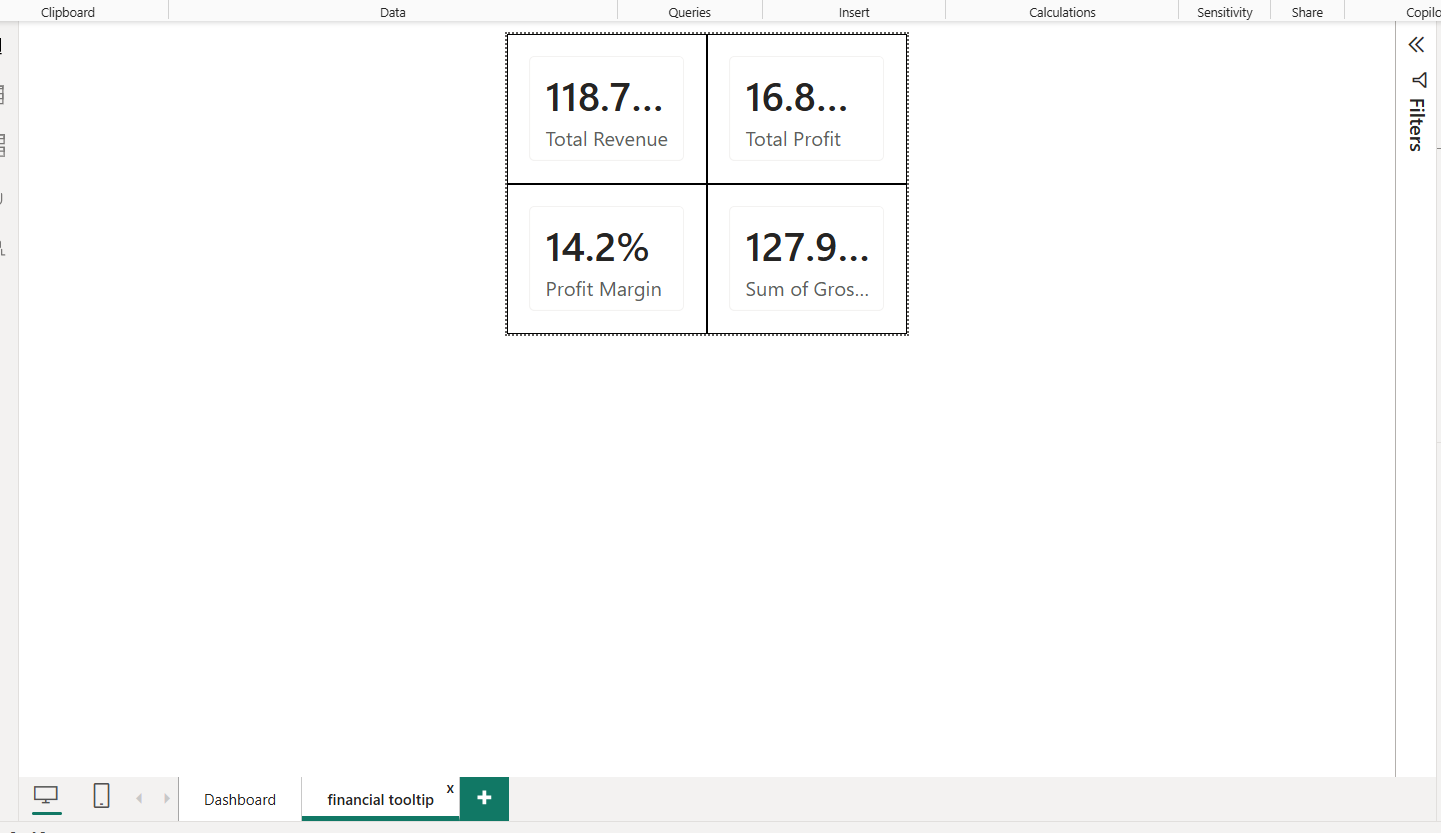

The dashboard page shown, as its layout file describes it:
{"tool":"powerbi","page":{"name":"financial tooltip","canvas":[320,240],"ordinal":1},"visuals":[{"type":"cardVisual","fields":{"Data":["Calendar.Total Revenue"]},"box":[0,0,160,120],"z":0},{"type":"cardVisual","fields":{"Data":["Calendar.Total Profit"]},"box":[160,0,160,120],"z":1},{"type":"cardVisual","fields":{"Data":["Calendar.Profit Margin"]},"box":[0,120,160,120],"z":2},{"type":"cardVisual","fields":{"Data":["Sum(financials.Gross Sales)"]},"box":[160,120,160,120],"z":3}]}

Visuals, with their boxes on the page's 320x240 design canvas (x1, y1, x2, y2). These are canvas units, not pixel positions in the 1441x833 screenshot, which may show the page scaled, cropped or inside an application window:
cardVisual - Calendar.Total Revenue: (0, 0, 160, 120)
cardVisual - Calendar.Total Profit: (160, 0, 320, 120)
cardVisual - Calendar.Profit Margin: (0, 120, 160, 240)
cardVisual - Sum(financials.Gross Sales): (160, 120, 320, 240)
